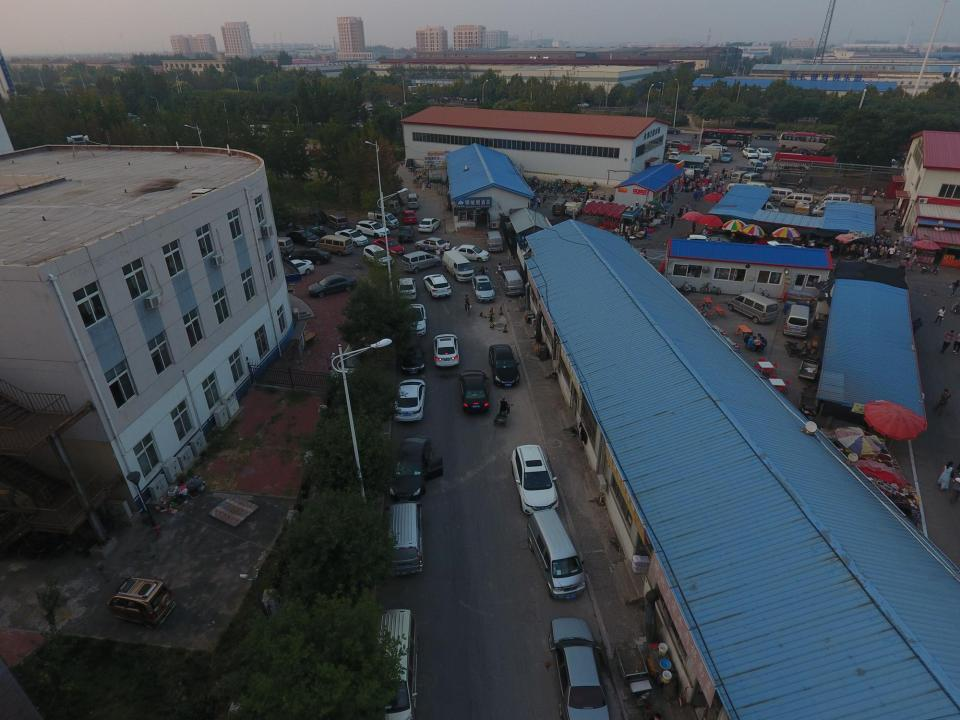bus: (777, 132, 840, 152), (700, 128, 753, 146)
car: (548, 617, 611, 720), (388, 434, 445, 500), (510, 443, 559, 515), (457, 370, 490, 413), (393, 379, 425, 423), (488, 344, 520, 388), (307, 273, 357, 298), (395, 333, 424, 375), (696, 232, 744, 254), (431, 333, 460, 368), (272, 258, 314, 280), (402, 303, 426, 336), (363, 244, 394, 269), (289, 247, 332, 265), (765, 240, 807, 258), (423, 274, 452, 299), (471, 274, 495, 303), (452, 244, 490, 262), (356, 219, 390, 237), (286, 229, 320, 247), (335, 229, 368, 247), (395, 277, 417, 301), (298, 209, 327, 227), (418, 216, 440, 234), (398, 225, 415, 243), (741, 146, 759, 158), (666, 140, 690, 149), (403, 209, 417, 224), (706, 143, 728, 152), (755, 132, 777, 141), (756, 147, 772, 159), (668, 150, 684, 162), (720, 152, 733, 163), (663, 127, 681, 134), (577, 102, 589, 108)
truck: (779, 152, 810, 172), (565, 197, 585, 216), (693, 148, 720, 162), (794, 198, 809, 214)
van: (526, 508, 587, 602), (366, 609, 418, 718), (383, 500, 424, 576), (728, 292, 780, 324), (441, 250, 475, 281), (782, 304, 810, 338), (401, 250, 442, 272), (315, 234, 354, 256), (498, 268, 525, 296), (809, 203, 854, 218), (367, 209, 399, 229), (265, 236, 294, 255), (586, 198, 613, 217), (781, 192, 813, 208), (747, 201, 779, 216), (726, 182, 758, 196), (815, 200, 852, 212), (484, 230, 503, 252), (819, 193, 852, 205), (327, 213, 348, 231), (375, 200, 400, 215), (768, 186, 793, 200), (675, 168, 704, 180), (551, 197, 569, 216), (740, 172, 764, 185), (730, 170, 751, 182), (747, 159, 764, 173), (747, 182, 769, 192), (406, 193, 419, 209), (694, 154, 713, 164), (758, 155, 767, 166)
